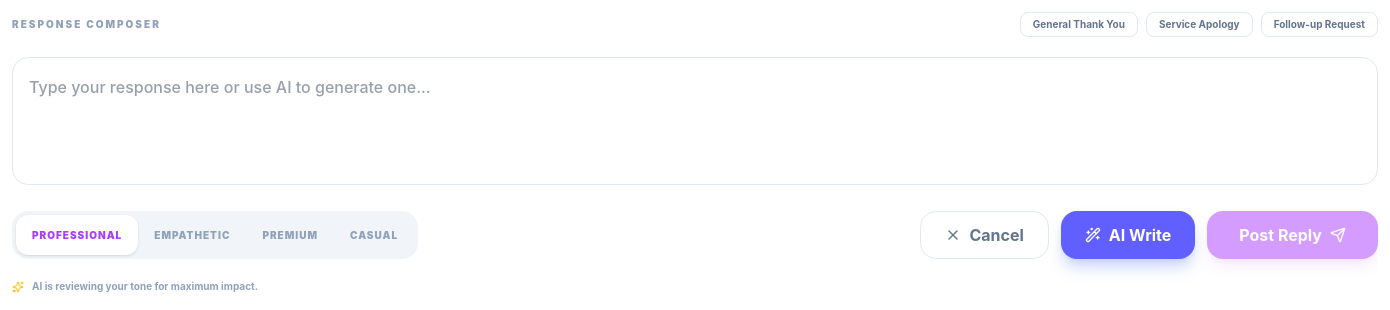
ReplyEditor › applies template correctly
What coordinates should you click on to do the following:
click the button "General Thank You"
I would click on:
 (1079, 24)
Its box is [1020,12,1138,37].
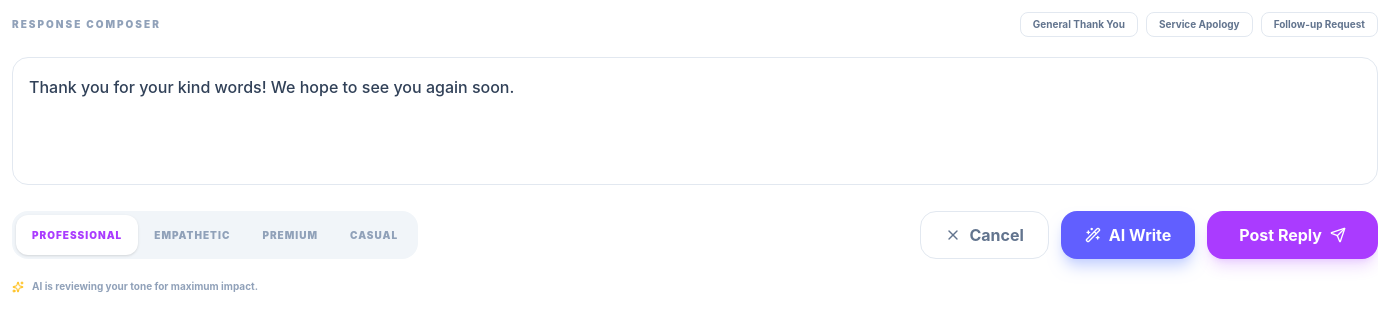
Now the text box with placeholder "Type your response here or use AI to generate one..." holds "Thank you for your kind words! We hope to see you again soon.", box [12,57,1378,185]
